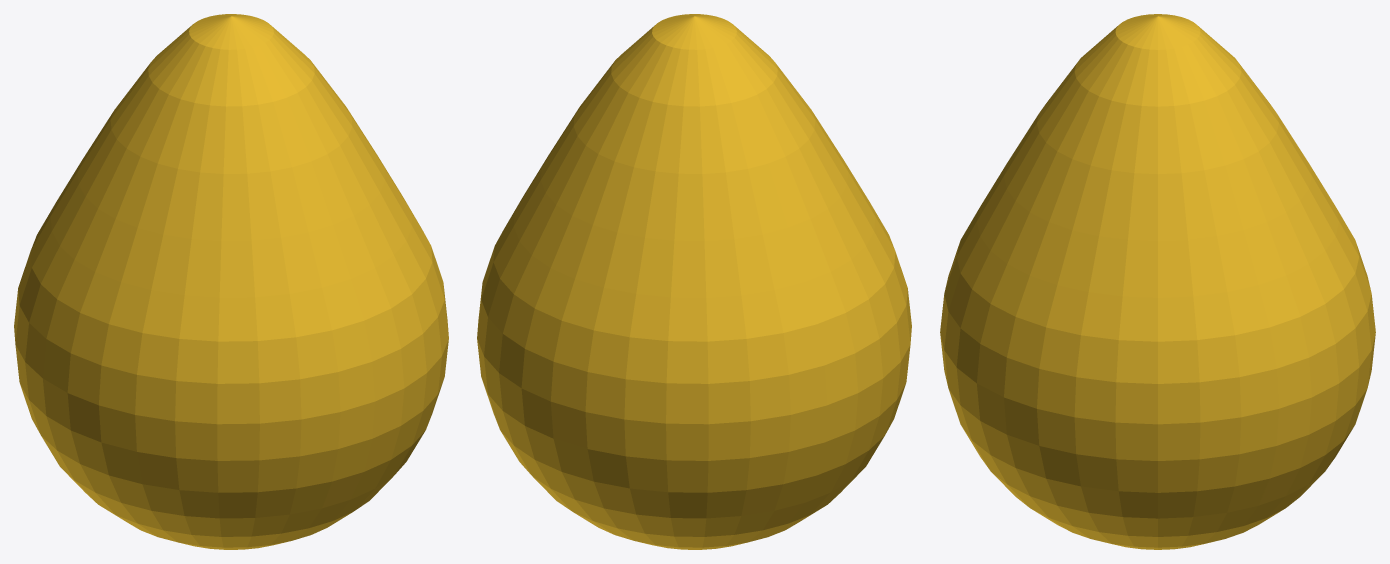
File: タマゴ.glb
The picture shows the model from 3 angles, left to right: view 1: azimuth 30°, elevation 25°; view 2: azimuth 150°, elevation 25°; view 3: azimuth 270°, elevation 25°; orthographic projection.
Visible parts, largest first — view 1: 球; view 2: 球; view 3: 球.
Part boxes in pixels (bbox=[...]): 球: bbox=[14, 14, 448, 549]; 球: bbox=[477, 14, 911, 549]; 球: bbox=[940, 14, 1375, 549].
Size of the model in its own units: 2 by 2.6 by 2.
